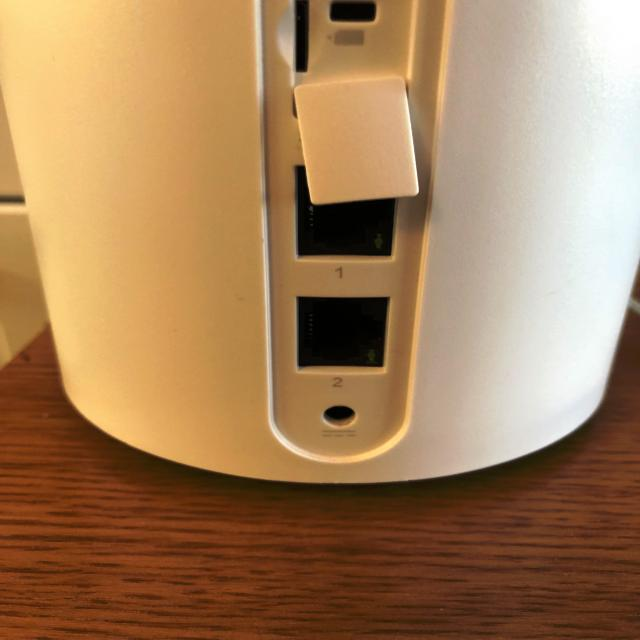lan: (294, 286, 395, 376)
modem: (0, 0, 640, 486)
pow: (296, 394, 392, 454)
